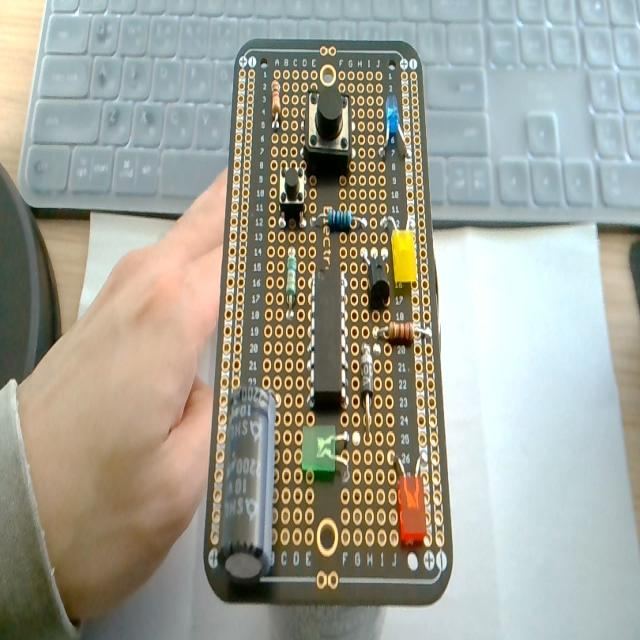Electrolytic capacitor: (220, 385, 278, 584)
IC: (307, 270, 350, 412)
diode: (359, 338, 377, 432)
led: (395, 452, 428, 542), (299, 423, 349, 481), (379, 90, 412, 158), (391, 230, 417, 287)
resistor: (374, 321, 427, 345), (285, 247, 297, 313), (328, 208, 354, 231), (270, 78, 280, 123)
switch: (305, 85, 351, 172), (279, 165, 305, 223)
transistor: (368, 251, 390, 310)
